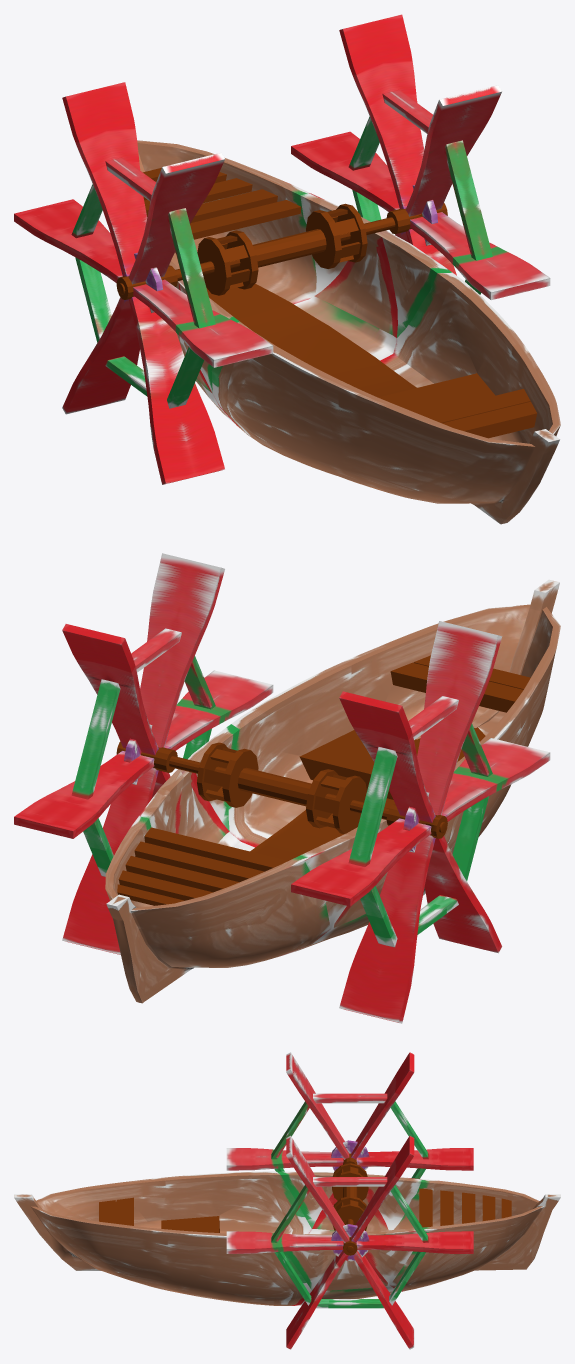
The model's file is Boat.fbx.
3 renders of one model, top to bottom at view 1: azimuth 30°, elevation 25°; view 2: azimuth 150°, elevation 25°; view 3: azimuth 270°, elevation 25°, orthographic. The views are drawn at different scales.
Visible parts, largest first — view 1: boat_1, s_2, s_1, middle; view 2: boat_1, s_2, s_1, middle; view 3: boat_1, s_1, s_2, middle.
Part boxes in pixels (left/top/right/bottom): boat_1: left=137, top=140, right=560, bottom=524; s_2: left=14, top=82, right=273, bottom=484; s_1: left=291, top=14, right=550, bottom=300; middle: left=116, top=185, right=447, bottom=312; boat_1: left=105, top=579, right=560, bottom=1003; s_2: left=291, top=621, right=550, bottom=1023; s_1: left=14, top=553, right=273, bottom=954; middle: left=116, top=724, right=447, bottom=852; boat_1: left=14, top=1171, right=560, bottom=1305; s_1: left=226, top=1135, right=473, bottom=1349; s_2: left=226, top=1052, right=473, bottom=1178; middle: left=331, top=1140, right=369, bottom=1261.
Bounding box in the file's own units: 9.12 × 8.24 × 20.8.
